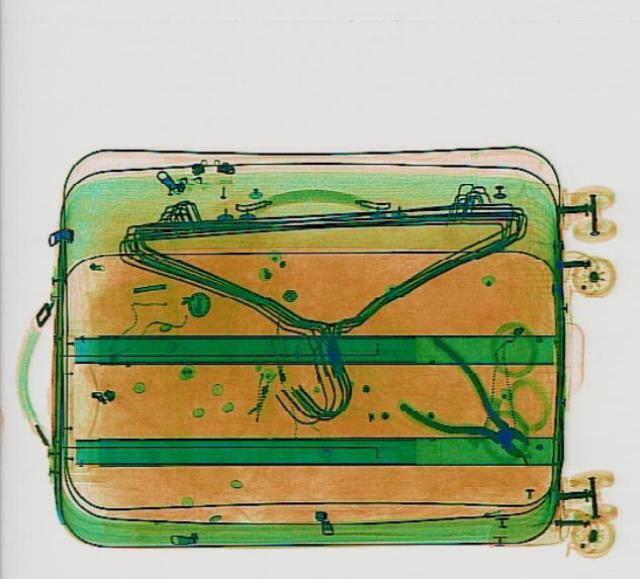Pliers: (370, 331, 558, 479)
